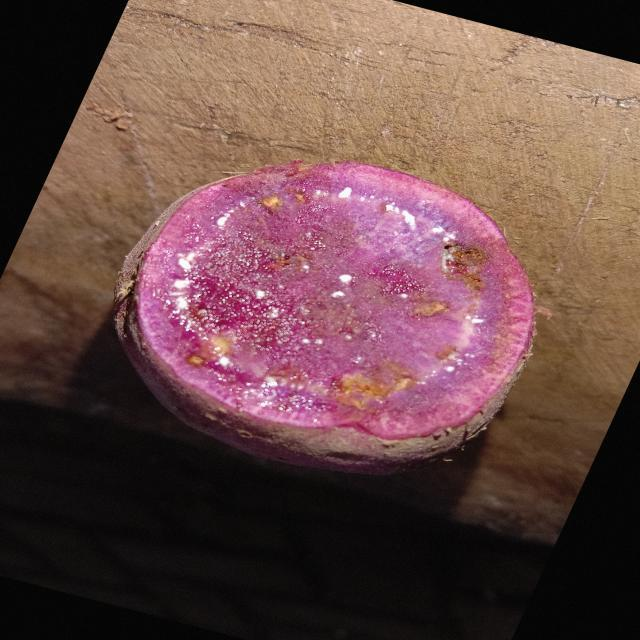Sick Sweet Potato_Tuber Rot: (115, 161, 535, 472)
